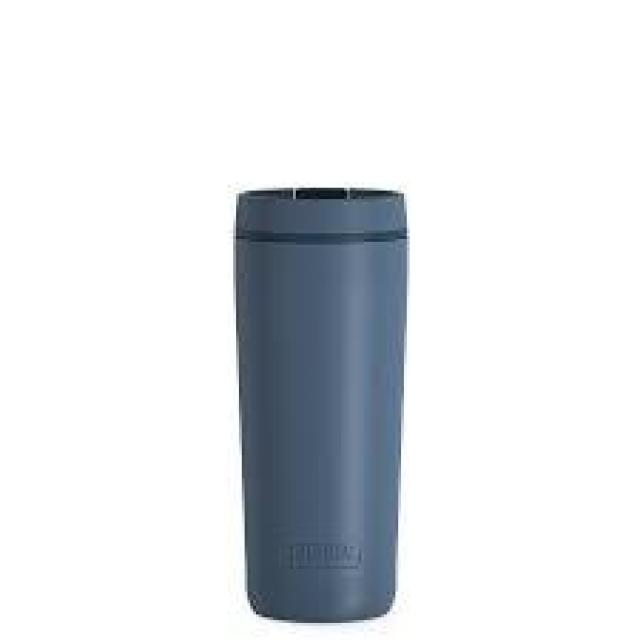bottle: (229, 183, 417, 624)
